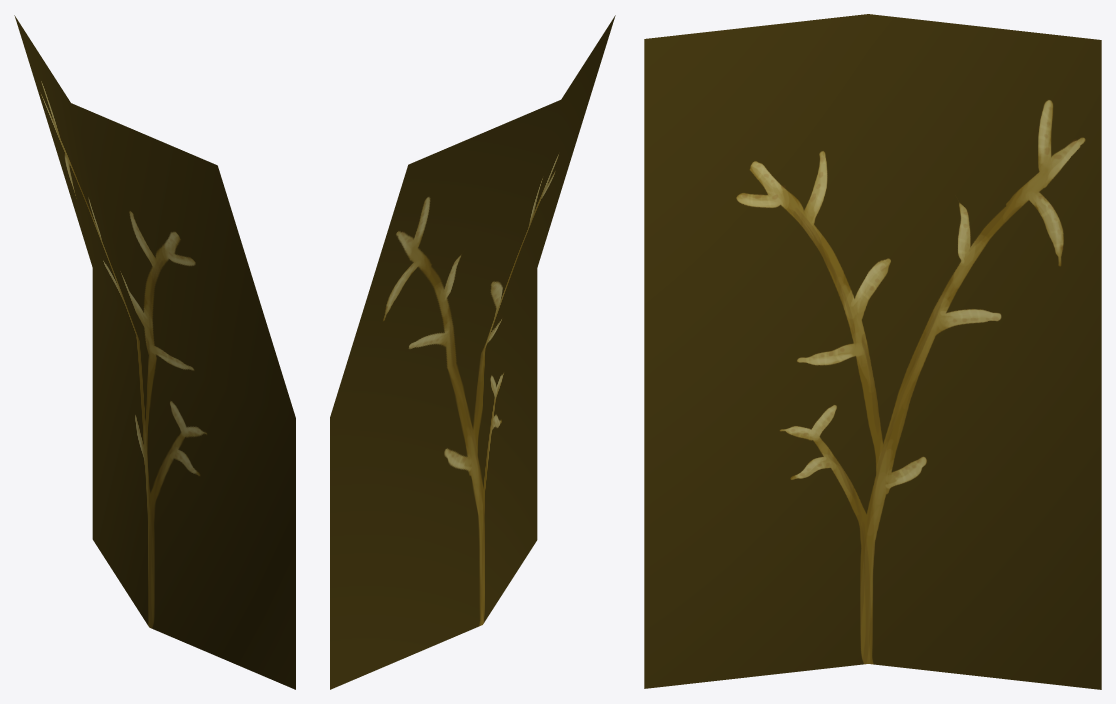
Rendered from grass_plant_01.fbx.
The picture shows the model from 3 angles, left to right: view 1: azimuth 30°, elevation 25°; view 2: azimuth 150°, elevation 25°; view 3: azimuth 270°, elevation 25°; orthographic projection. The views are drawn at different scales.
Parts seen in each view (by area): view 1: grass_plant_01; view 2: grass_plant_01; view 3: grass_plant_01.
Part boxes in pixels (x1,y1,x2,y2): grass_plant_01: (14, 15, 295, 689); grass_plant_01: (330, 15, 615, 689); grass_plant_01: (644, 14, 1101, 689).
Size of the model in its own units: 0.6417 by 2.59 by 1.77.
